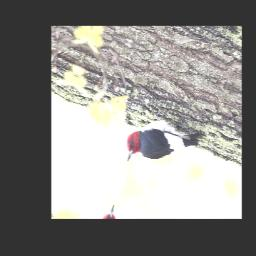Woodpecker: (120, 106, 202, 187)
